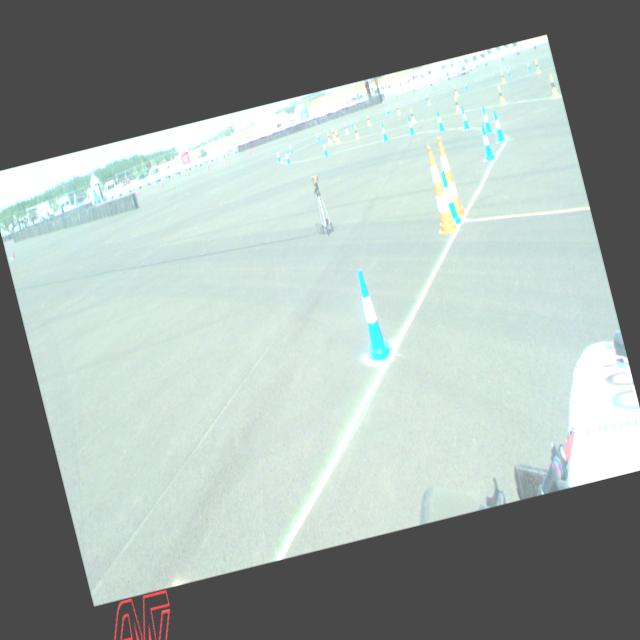blue_cone: (346, 266, 396, 366), (439, 170, 462, 224), (476, 122, 497, 162), (490, 109, 506, 142), (479, 105, 492, 133), (458, 106, 470, 130), (433, 109, 444, 132), (405, 116, 415, 136), (379, 122, 388, 141), (321, 140, 328, 156), (284, 149, 290, 164), (275, 149, 281, 162), (525, 59, 531, 71), (504, 66, 510, 78), (462, 78, 468, 90), (288, 142, 294, 153), (384, 104, 390, 114), (314, 130, 320, 140), (422, 92, 428, 102), (349, 117, 353, 127)
large_orange_cone: (418, 143, 460, 236), (434, 134, 468, 218)
yellow_cone: (546, 73, 560, 98), (496, 84, 506, 105), (408, 106, 417, 123), (453, 96, 461, 112), (352, 124, 360, 138), (334, 128, 341, 144), (325, 130, 332, 144), (534, 58, 540, 73), (499, 70, 506, 82), (365, 113, 371, 126), (343, 122, 349, 134), (394, 102, 400, 114), (331, 126, 336, 140), (452, 84, 458, 95), (425, 94, 431, 105)
